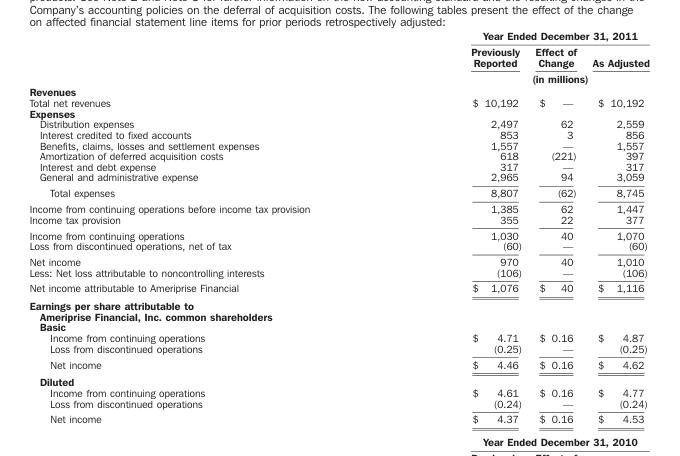table: (28, 29, 648, 424)
table column: (28, 29, 389, 424), (389, 29, 527, 424), (583, 29, 648, 424), (527, 29, 583, 424)
table column header: (28, 29, 648, 85)
table projected row header: (28, 296, 648, 321), (28, 372, 648, 386), (28, 85, 648, 96), (28, 107, 648, 118), (28, 321, 648, 331)
table row: (28, 43, 648, 70), (28, 296, 648, 321), (28, 279, 648, 296), (28, 355, 648, 372), (28, 184, 648, 200), (28, 70, 648, 85), (28, 29, 648, 43), (28, 226, 648, 240), (28, 372, 648, 386), (28, 410, 648, 424), (28, 171, 648, 184), (28, 200, 648, 213), (28, 213, 648, 226), (28, 240, 648, 253), (28, 253, 648, 266), (28, 266, 648, 279), (28, 342, 648, 355), (28, 397, 648, 410), (28, 85, 648, 96), (28, 96, 648, 107), (28, 107, 648, 118), (28, 128, 648, 139), (28, 139, 648, 150), (28, 160, 648, 171), (28, 331, 648, 342), (28, 386, 648, 397), (28, 118, 648, 128), (28, 150, 648, 160), (28, 321, 648, 331)
table spanning cell: (389, 70, 648, 85), (389, 29, 648, 43)
